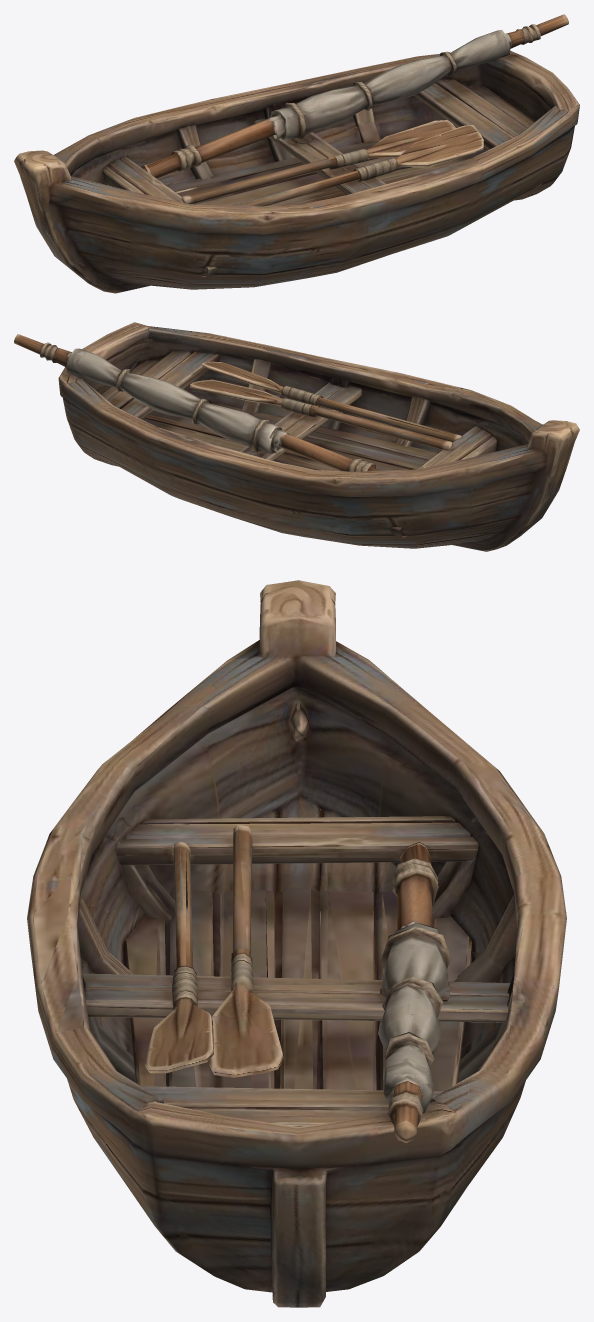
The model's file is boat.glb.
The picture shows the model from 3 angles, top to bottom: view 1: azimuth 30°, elevation 25°; view 2: azimuth 150°, elevation 25°; view 3: azimuth 270°, elevation 25°; orthographic projection. The views are drawn at different scales.
Size of the model in its own units: 3.95 by 1 by 1.74.
Materials: 1 (1 with a texture image).
